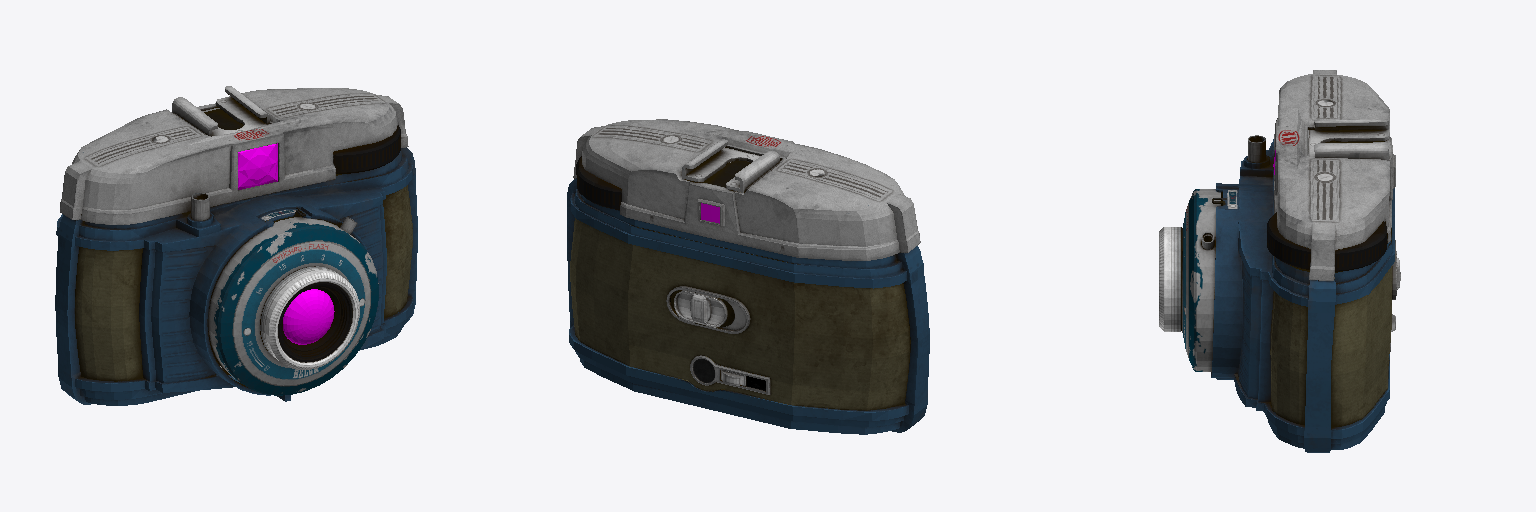
3 views of the same model, side by side, from view 1: azimuth 30°, elevation 25°; view 2: azimuth 150°, elevation 25°; view 3: azimuth 270°, elevation 25° (orthographic).
Visible parts, largest first — view 1: group5 Low_Midden_low, group5 Camera, group5 Low_Lens_4_low, group5 Low_Midden_2_low, group5 Low_Lens_3_low, group5 Low_Lens_2_low, group5 Low_Detail_Top_low, group5 Low_Lens_1_low, group5 Low_Wheel_low, group5 pCube1; view 2: group5 Low_Midden_2_low, group5 Camera, group5 Low_Midden_low, group5 Low_Detail_Top_low, group5 Low_Detail_4_low, group5 Low_Detail_7_low, group5 Low_Wheel_low, group5 Low_Detail_8_low, group5 Low_Cube_low2; view 3: group5 Low_Midden_low, group5 Camera, group5 Low_Midden_2_low, group5 Low_Lens_4_low, group5 Low_Detail_Top_low, group5 Low_Wheel_low, group5 Low_Lens_3_low.
Part boxes in pixels (x1,y1,x2,y2): group5 Low_Midden_low: (55, 147, 417, 405); group5 Camera: (60, 88, 408, 224); group5 Low_Lens_4_low: (208, 217, 378, 395); group5 Low_Midden_2_low: (75, 185, 412, 381); group5 Low_Lens_3_low: (260, 266, 359, 369); group5 Low_Lens_2_low: (278, 282, 352, 362); group5 Low_Detail_Top_low: (172, 86, 269, 136); group5 Low_Lens_1_low: (283, 289, 334, 344); group5 Low_Wheel_low: (333, 125, 400, 173); group5 pCube1: (238, 143, 277, 189); group5 Low_Midden_2_low: (570, 218, 910, 410); group5 Camera: (573, 119, 920, 260); group5 Low_Midden_low: (567, 178, 929, 434); group5 Low_Detail_Top_low: (682, 139, 779, 192); group5 Low_Detail_4_low: (674, 290, 727, 326); group5 Low_Detail_7_low: (690, 355, 770, 394); group5 Low_Wheel_low: (576, 156, 621, 209); group5 Low_Detail_8_low: (666, 286, 750, 333); group5 Low_Cube_low2: (703, 160, 750, 187); group5 Low_Midden_low: (1211, 139, 1394, 452); group5 Camera: (1274, 70, 1395, 280); group5 Low_Midden_2_low: (1270, 266, 1391, 427); group5 Low_Lens_4_low: (1182, 189, 1220, 371); group5 Low_Detail_Top_low: (1308, 119, 1388, 160); group5 Low_Wheel_low: (1267, 212, 1386, 271); group5 Low_Lens_3_low: (1159, 227, 1182, 331).
Bounding box in the file's own units: 8.99 × 6.11 × 5.36.
Materials: 2 (1 with a texture image).